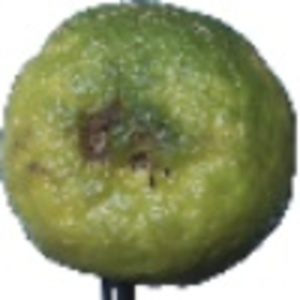limão: (1, 1, 297, 300)
